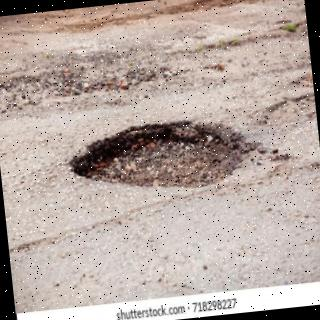pothole: (68, 120, 258, 188)
